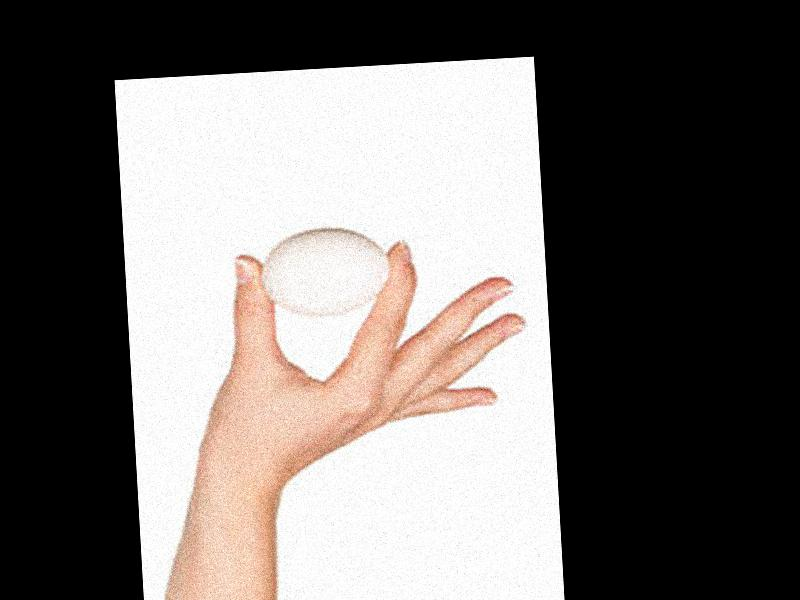Eggs: (259, 222, 392, 320)
